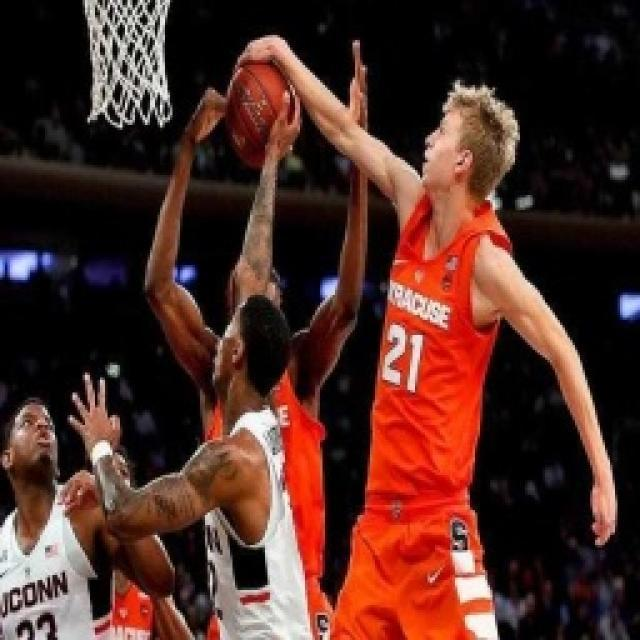rim: (218, 48, 303, 154)
